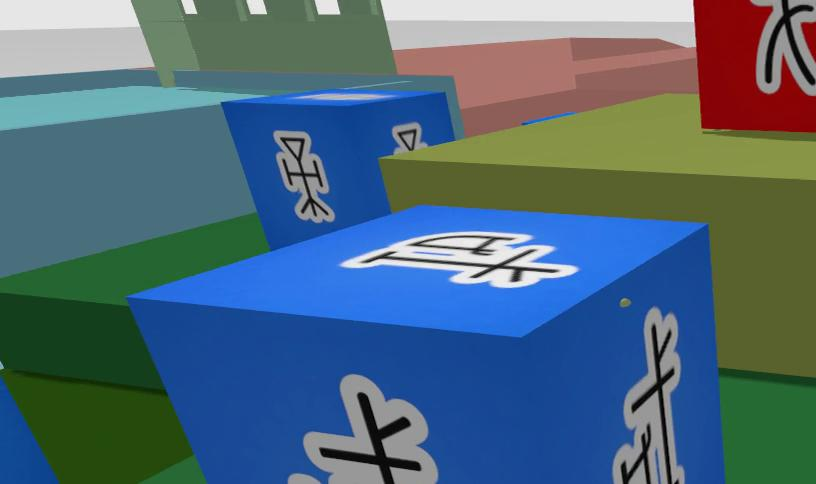KFS_FAKE: (692, 0, 816, 131), (754, 0, 816, 95), (750, 0, 754, 3)
KFS_REAL: (127, 203, 727, 484), (219, 84, 456, 248), (304, 375, 438, 484), (342, 232, 577, 287), (613, 307, 684, 484), (274, 131, 335, 223), (391, 123, 422, 153), (288, 474, 326, 484)
